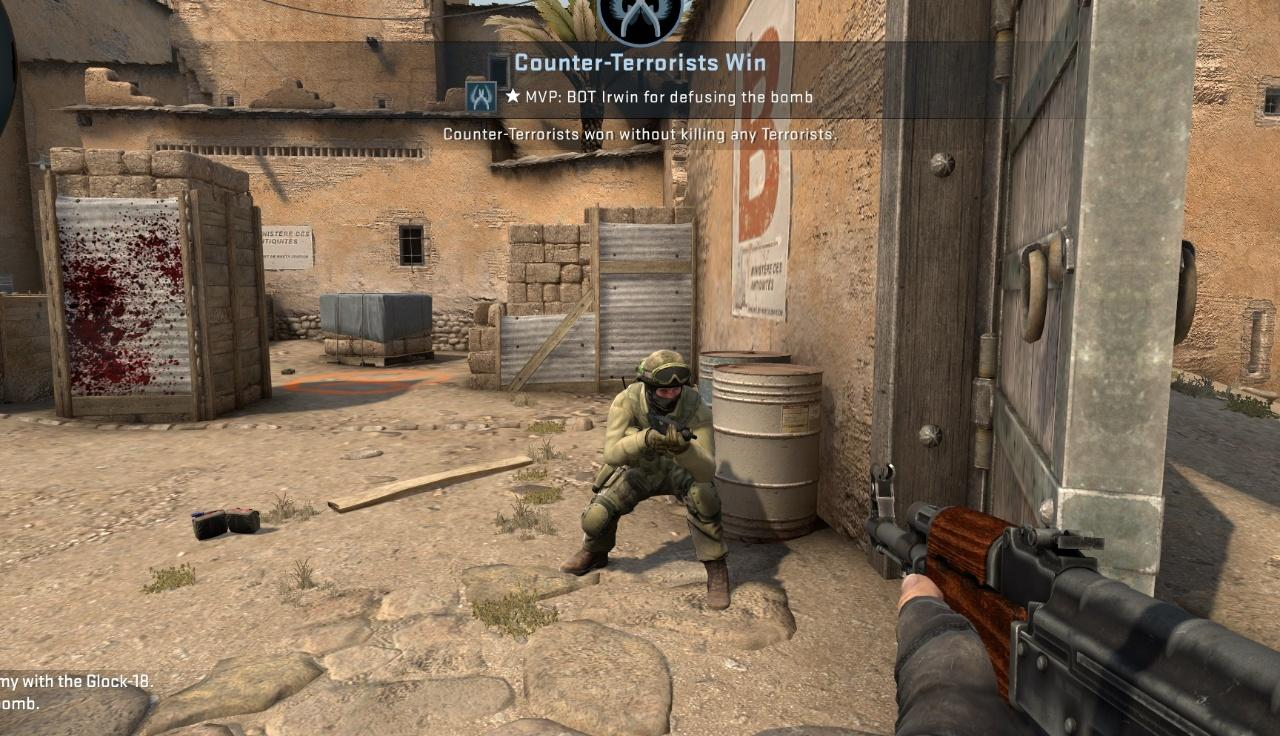ct: (566, 349, 733, 608)
cthead: (643, 350, 685, 410)
rifle: (865, 460, 1280, 736)
